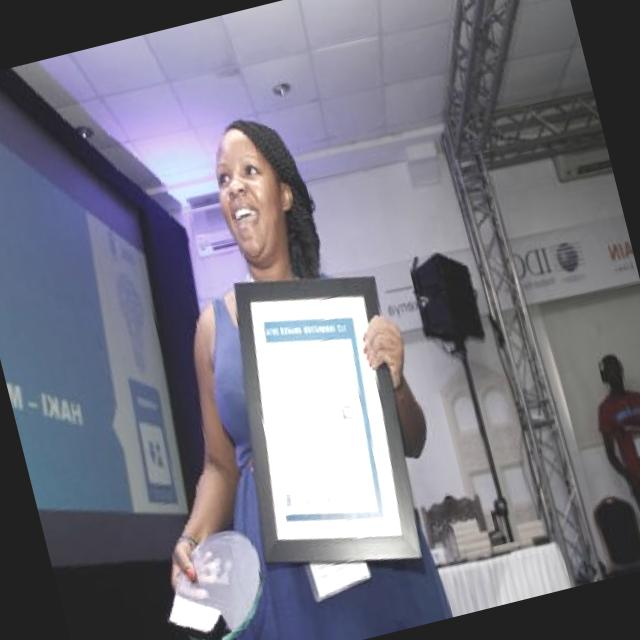Person: (66, 89, 476, 640), (577, 337, 640, 544)
